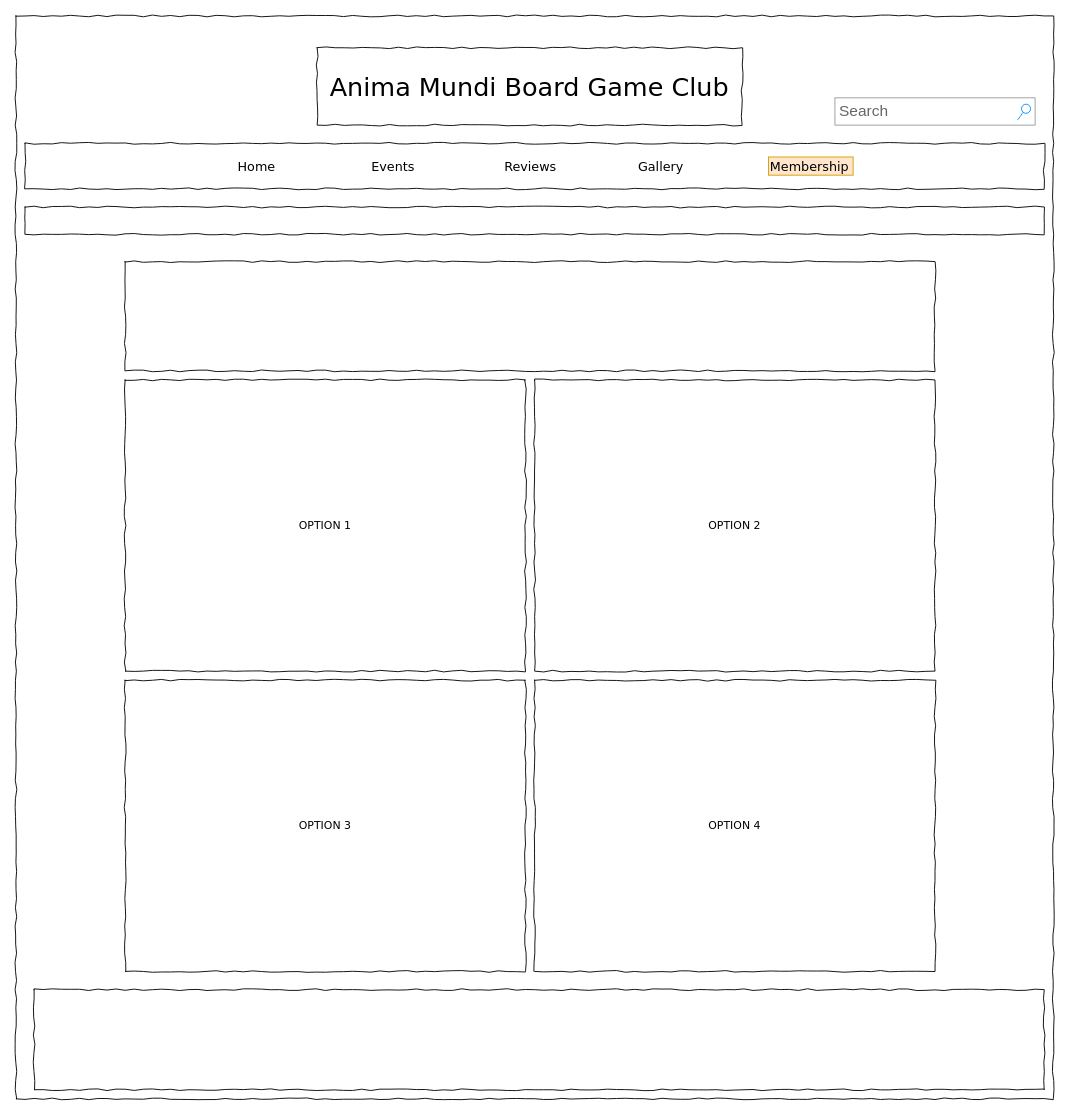
Image size: 1069x1115. Some labels were removed from this diagram. Here are the shapes that lost their labels. From the top down, the centre of each, then its label:
the point at 534,220: COVID GUIDELINES
the point at 529,316: MEMBERSHIPS DESCRIPTION
the point at 538,1039: FOOTER
